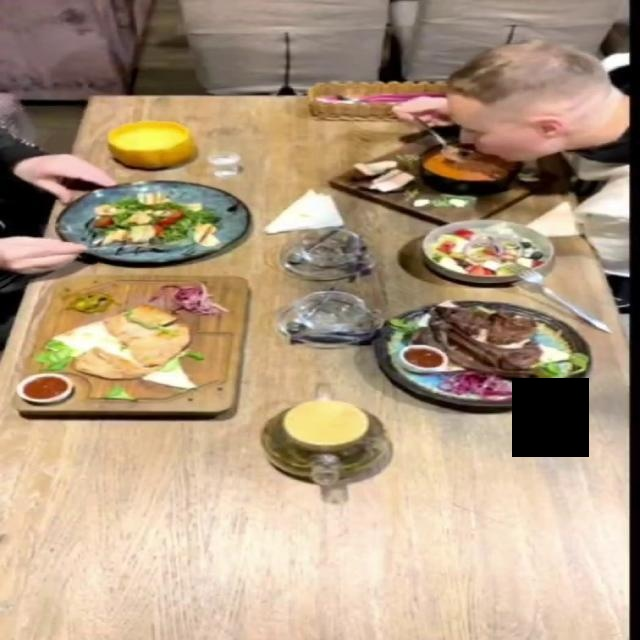meat: (10, 278, 251, 419), (371, 301, 592, 408)
salad: (51, 180, 250, 264), (421, 218, 557, 283)
soup: (327, 135, 564, 225), (102, 120, 195, 167)
tea: (243, 378, 401, 503)
